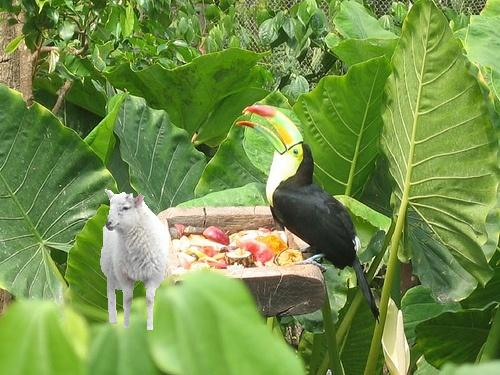tampered: (101, 190, 169, 330)
